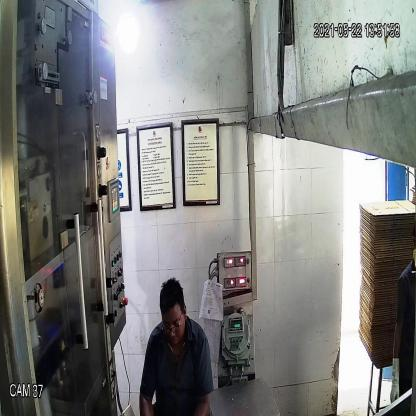goggles: (160, 311, 182, 338)
